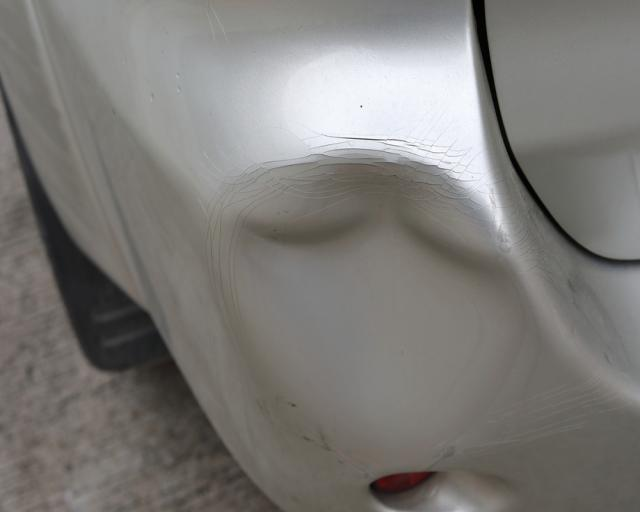dent: (224, 152, 536, 448)
